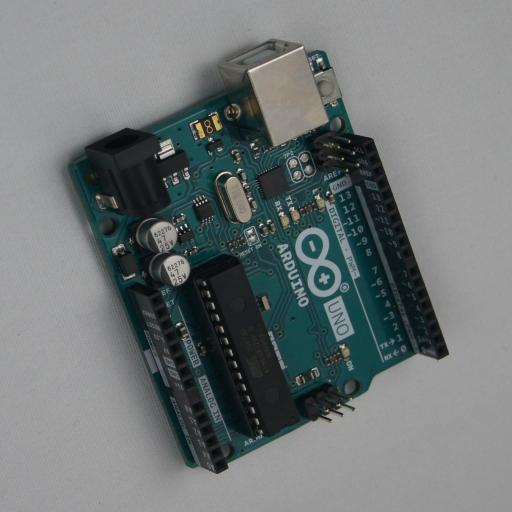Arduino Uno -Green-: (62, 41, 449, 474)
